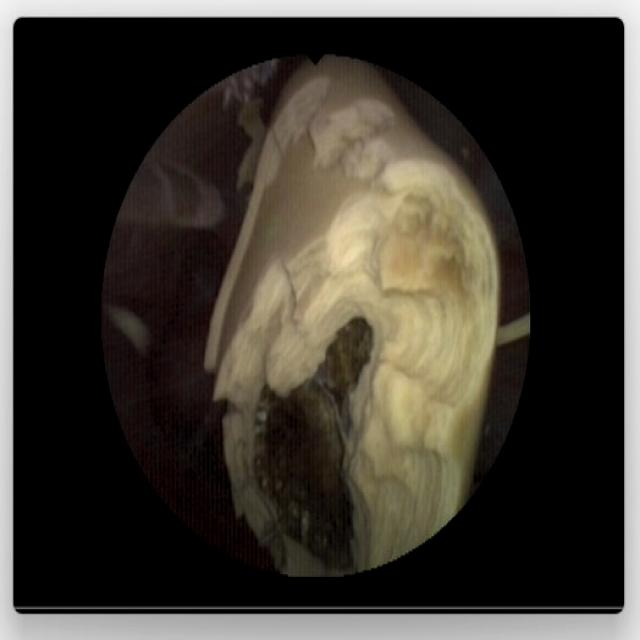stone: (204, 64, 527, 566), (106, 305, 151, 353)
